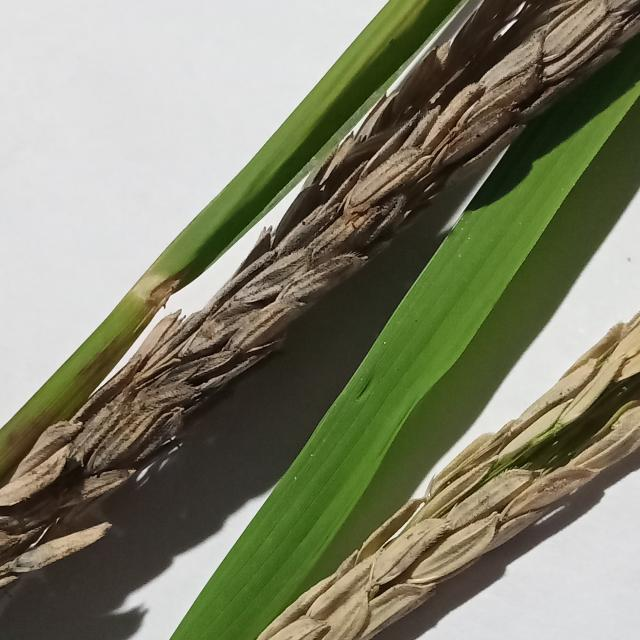Neck_Blast: (249, 302, 640, 640)
